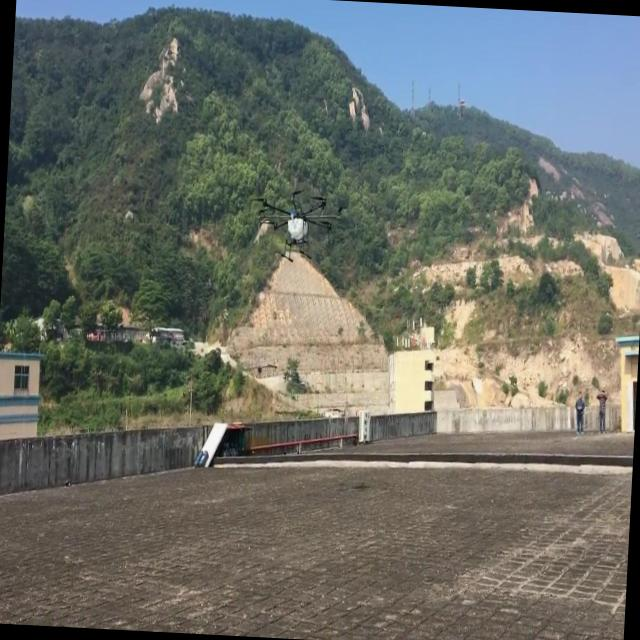drone: (248, 185, 346, 268)
